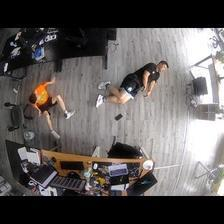fall: (93, 61, 170, 107), (29, 77, 76, 138)
